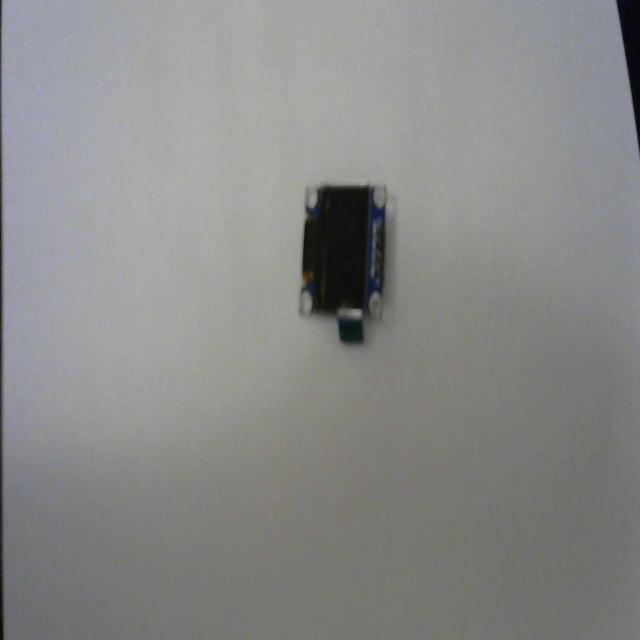oled: (297, 174, 391, 356)
